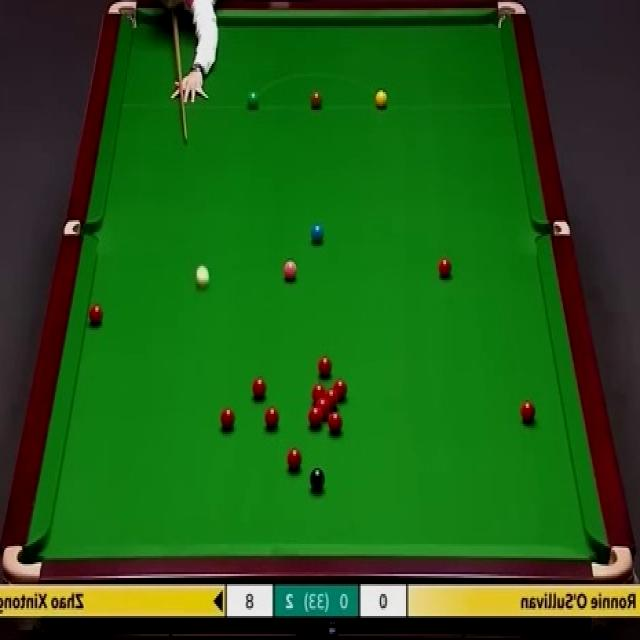black-ball: (308, 466, 325, 493)
blue-ball: (310, 222, 325, 245)
brown-ball: (310, 90, 323, 110)
green-ball: (247, 89, 260, 110)
pink-ball: (281, 257, 301, 285)
red-ball: (86, 303, 104, 331), (285, 446, 303, 473), (436, 258, 454, 281), (251, 376, 267, 401), (521, 400, 537, 424), (264, 407, 280, 431), (220, 408, 236, 432), (336, 378, 351, 402), (308, 408, 324, 430), (324, 388, 340, 408), (317, 357, 332, 378), (328, 412, 342, 433), (311, 384, 326, 403), (316, 397, 330, 416)
white-ball: (194, 264, 211, 286)
yellow-ball: (375, 90, 387, 110)
